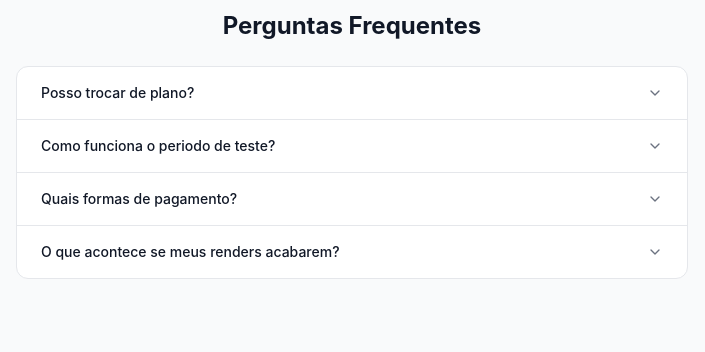
Test: PricingFAQ › opening one FAQ closes the previous one
What coordinates should you click on to do the following:
click the button "Posso trocar de plano?"
I would click on:
 (118, 92)
Its box is [17,67,687,119].
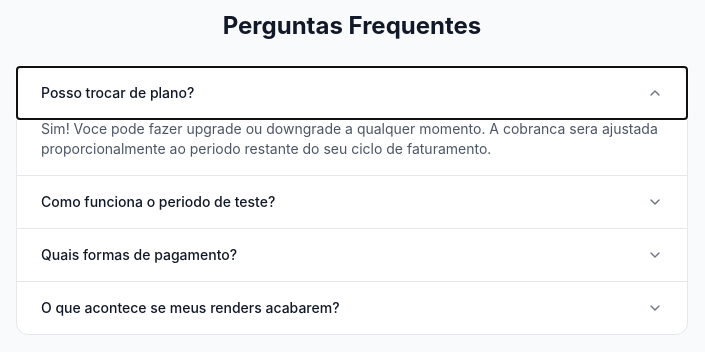
Expected: the text "Sim! Voce pode fazer upgrade" is shown, [41,120,658,157]
What coordinates should you click on to do the following:
click the button "Quais formas de pagamento?"
I would click on:
 (139, 254)
Its box is [17,229,687,281].
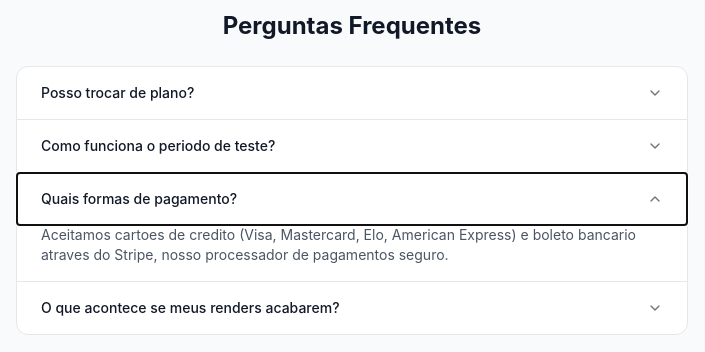
Expected: the text "Sim! Voce pode fazer upgrade" is gone
Expected: the text "Aceitamos cartoes de credito" is shown, [41,226,636,263]
